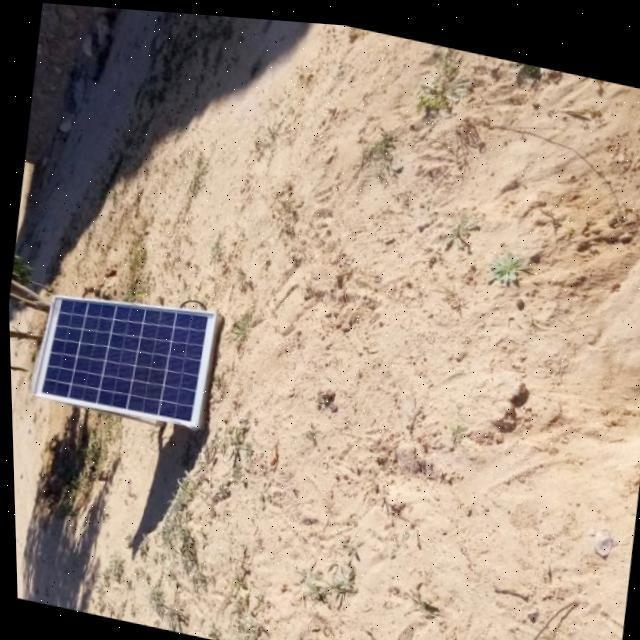Normal Solar Panel: (26, 275, 214, 430)
